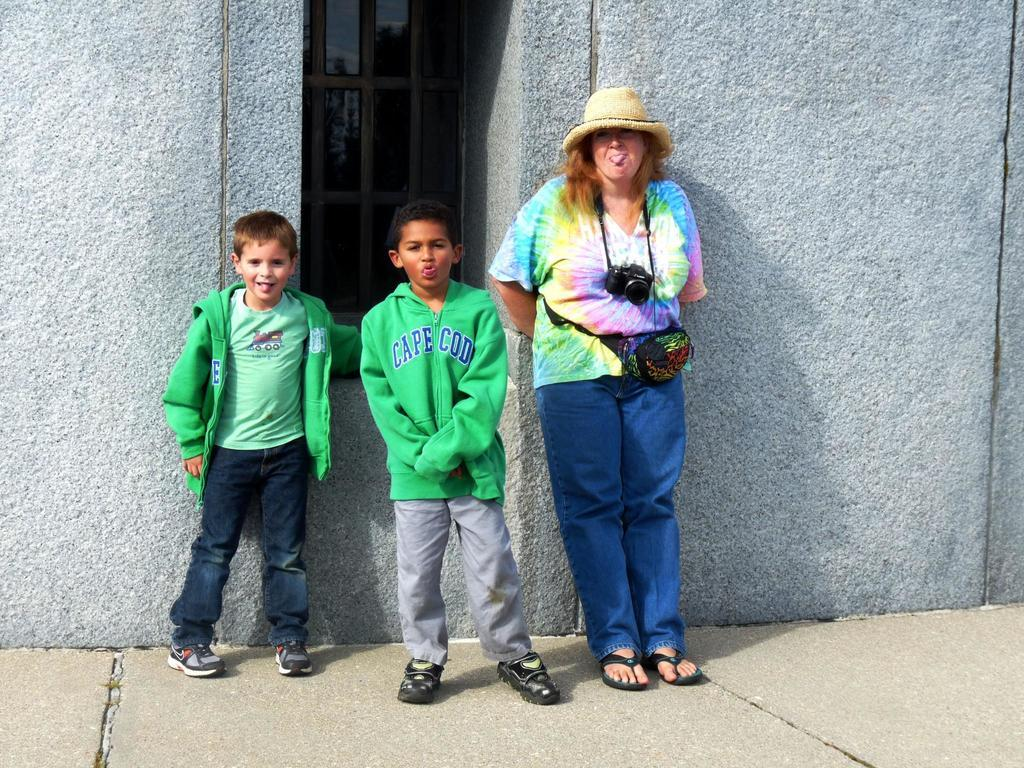Hat: (562, 86, 672, 160)
